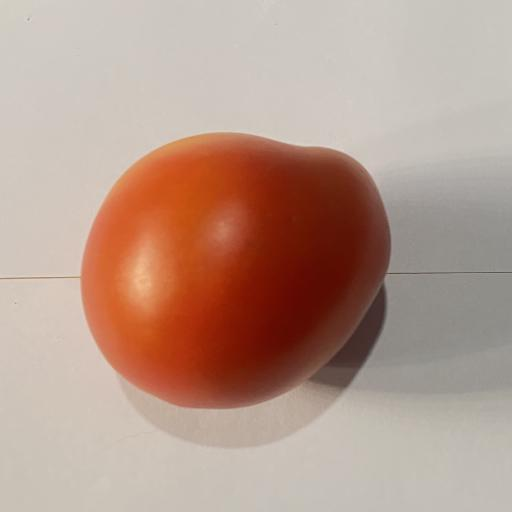ripe: (82, 134, 390, 408)
